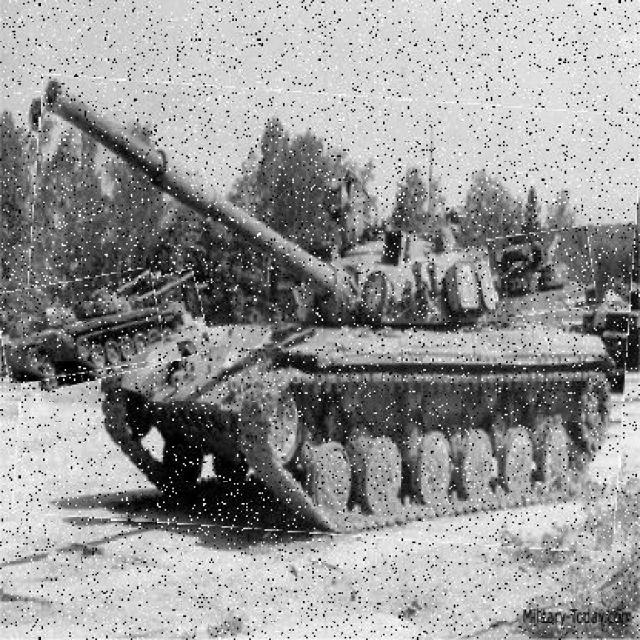Tank: (21, 84, 635, 544), (26, 280, 209, 383), (1, 273, 163, 381), (489, 231, 596, 317)
